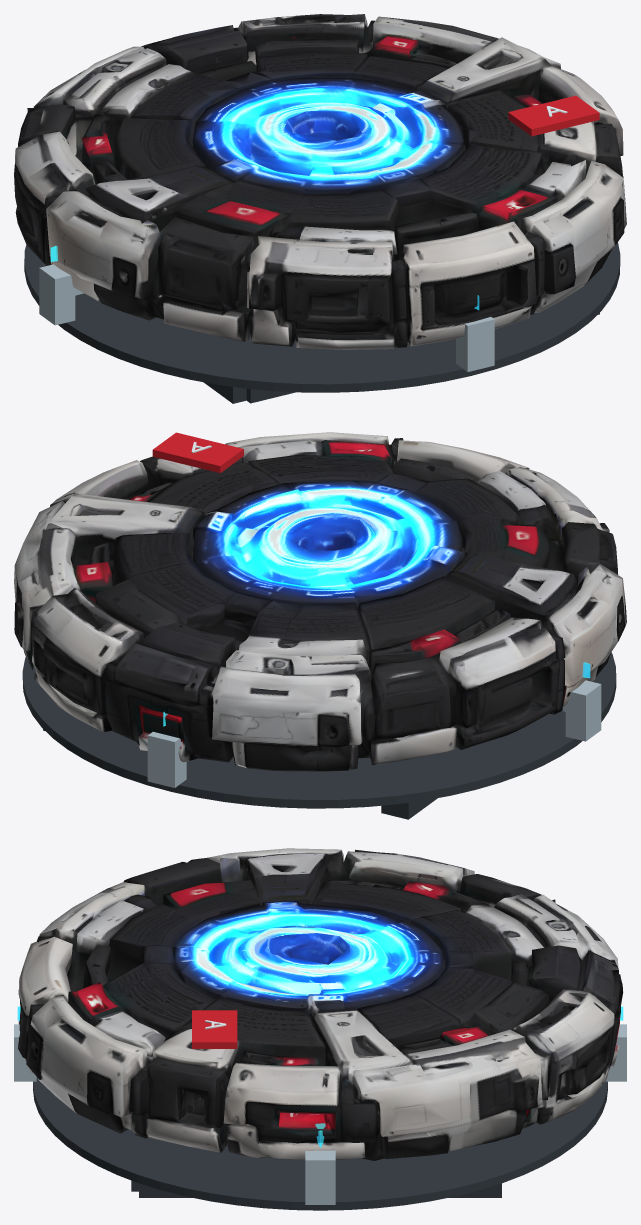
File: backspool_threadrail_cartridge_game.glb
3 views of the same model, one above another, from view 1: azimuth 30°, elevation 25°; view 2: azimuth 150°, elevation 25°; view 3: azimuth 270°, elevation 25° (orthographic). The views are drawn at different scales.
Parts seen in each view (by area): view 1: Disc_MainBody, Spool_Core, Housing_Lower, A_B_Identifier, Jaw_Tooth_03, Jaw_Tooth_02, Jaw_Grip_02, DockingClip, Jaw_Grip_03; view 2: Disc_MainBody, Spool_Core, Housing_Lower, A_B_Identifier, Jaw_Tooth_01, Jaw_Tooth_02, Jaw_Grip_02, Jaw_Grip_01, DockingClip; view 3: Disc_MainBody, Spool_Core, Housing_Lower, A_B_Identifier, Jaw_Tooth_00, Jaw_Grip_00, DockingClip.
Boxes of the visible parts, <box> form: Disc_MainBody: <box>14,14,626,349</box>; Spool_Core: <box>168,65,469,193</box>; Housing_Lower: <box>24,242,620,392</box>; A_B_Identifier: <box>508,95,599,136</box>; Jaw_Tooth_03: <box>456,330,494,371</box>; Jaw_Tooth_02: <box>39,279,75,325</box>; Jaw_Grip_02: <box>39,264,83,300</box>; DockingClip: <box>204,313,599,403</box>; Jaw_Grip_03: <box>457,317,494,347</box>; Disc_MainBody: <box>14,432,626,771</box>; Spool_Core: <box>166,480,474,616</box>; Housing_Lower: <box>22,652,616,808</box>; A_B_Identifier: <box>152,432,243,473</box>; Jaw_Tooth_01: <box>147,746,186,787</box>; Jaw_Tooth_02: <box>565,695,601,741</box>; Jaw_Grip_02: <box>562,680,601,716</box>; Jaw_Grip_01: <box>147,731,182,763</box>; DockingClip: <box>43,729,437,819</box>; Disc_MainBody: <box>18,848,623,1160</box>; Spool_Core: <box>173,891,472,1023</box>; Housing_Lower: <box>33,1077,607,1210</box>; A_B_Identifier: <box>192,1010,237,1048</box>; Jaw_Tooth_00: <box>305,1170,335,1204</box>; Jaw_Grip_00: <box>305,1150,335,1180</box>; DockingClip: <box>131,1180,501,1197</box>.
Size of the model in its own units: 0.081 by 0.0249 by 0.081.
Materials: 6 (1 with a texture image).
